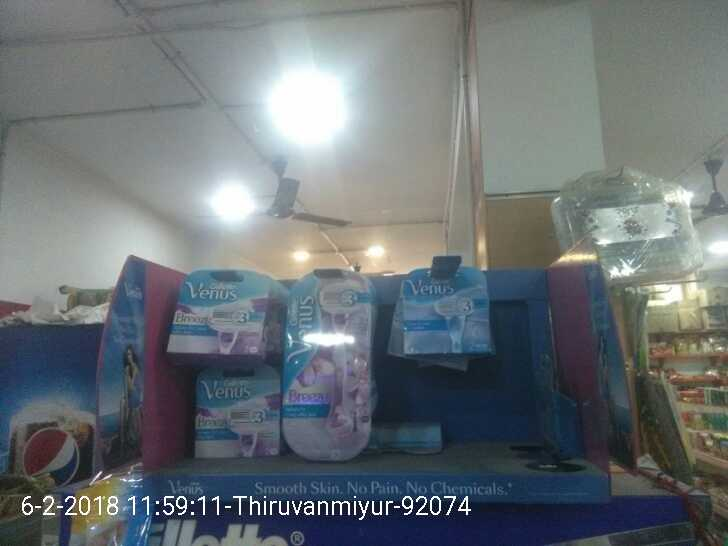venus: (283, 264, 376, 462), (172, 259, 267, 358), (192, 360, 282, 462), (401, 268, 492, 356)
